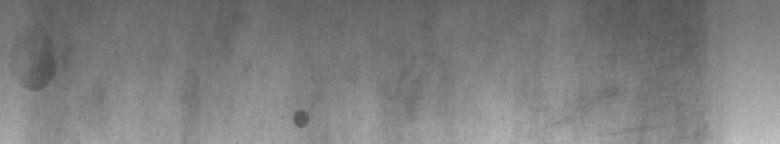fi: (282, 104, 312, 135)
